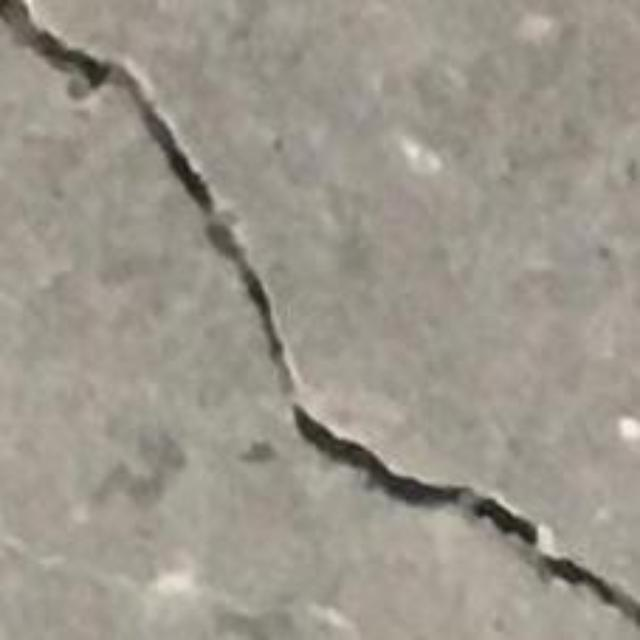crack: (0, 0, 639, 625), (0, 0, 296, 394), (294, 404, 639, 625)
